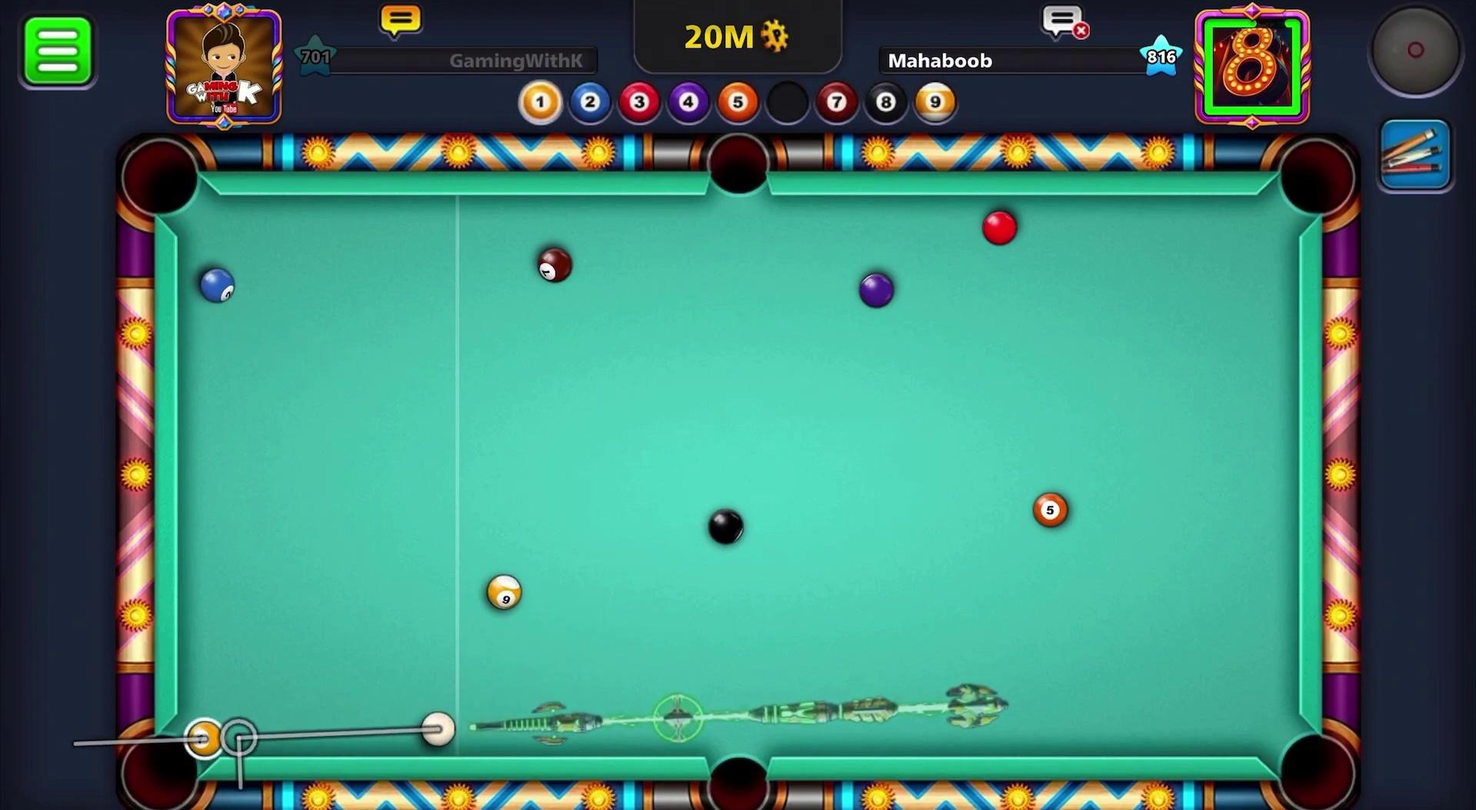Ball: (698, 505, 751, 552), (480, 568, 528, 615), (855, 267, 898, 313), (1030, 485, 1071, 533), (978, 207, 1022, 248), (529, 245, 575, 284), (195, 263, 238, 304)
Guideline: (73, 712, 455, 785)
Hole: (111, 130, 208, 228), (1268, 134, 1364, 232), (87, 732, 206, 809), (1266, 719, 1364, 809), (697, 123, 784, 204), (693, 742, 783, 809)
Play_Area: (179, 194, 1300, 759)
Spin: (1355, 0, 1474, 111)
White: (418, 709, 459, 749)
